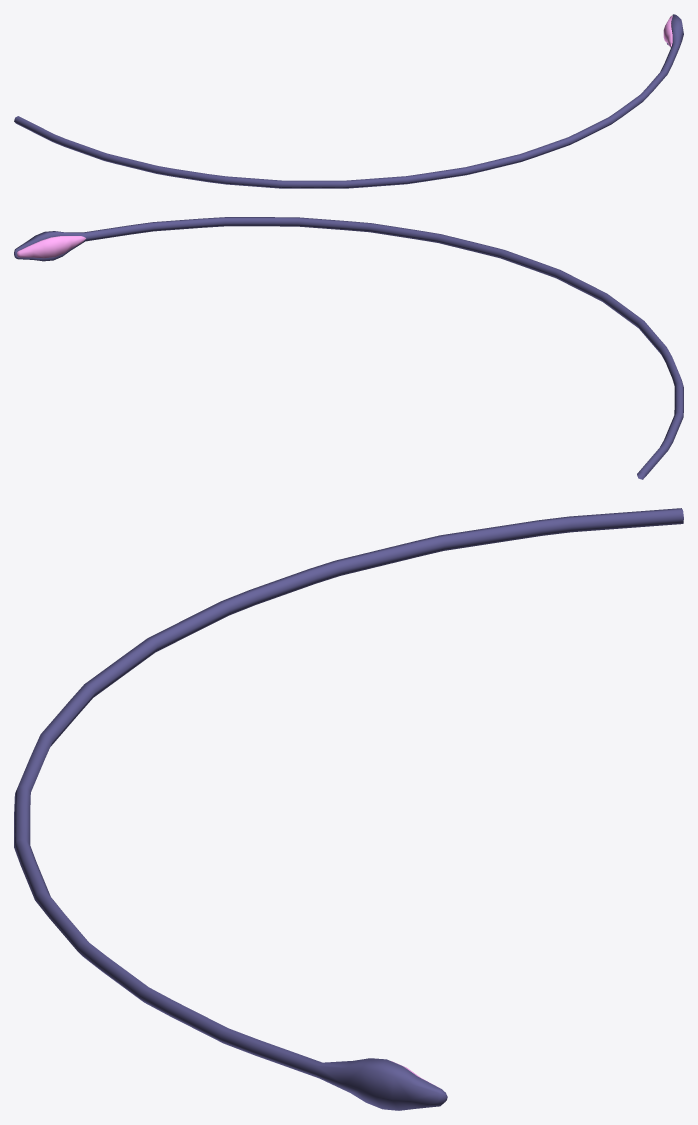
Rendered from SM_Tentacle_02.fbx.
3 renders of one model, top to bottom at view 1: azimuth 30°, elevation 25°; view 2: azimuth 150°, elevation 25°; view 3: azimuth 270°, elevation 25°, orthographic. The views are drawn at different scales.
Parts seen in each view (by area): view 1: SM_Tentacle_01; view 2: SM_Tentacle_01; view 3: SM_Tentacle_01.
Part boxes in pixels (box(x1,y1,x2,y2)): SM_Tentacle_01: box(14, 14, 683, 188); SM_Tentacle_01: box(14, 217, 683, 479); SM_Tentacle_01: box(14, 508, 683, 1110).
Bounding box in the file's own units: 175 × 364 × 13.46.
